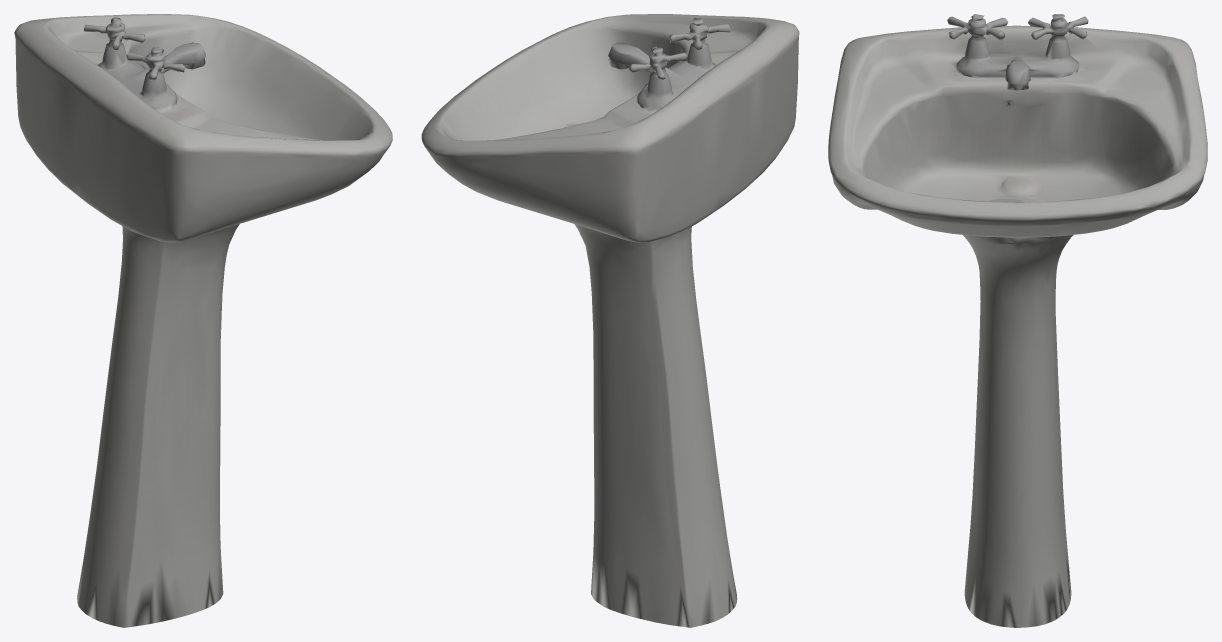
The model's file is lavamano.fbx.
3 views of the same model, side by side, from view 1: azimuth 30°, elevation 25°; view 2: azimuth 150°, elevation 25°; view 3: azimuth 270°, elevation 25° (orthographic).
Visible parts, largest first — view 1: tripo_node_2d4ae475; view 2: tripo_node_2d4ae475; view 3: tripo_node_2d4ae475.
Boxes of the visible parts, x1,y1,x2,y2 form: tripo_node_2d4ae475: (14, 14, 392, 627); tripo_node_2d4ae475: (421, 14, 799, 627); tripo_node_2d4ae475: (828, 14, 1207, 627).
Bounding box in the file's own units: 0.4817 × 0.9998 × 0.6005.
Materials: 1 (1 with a texture image).
